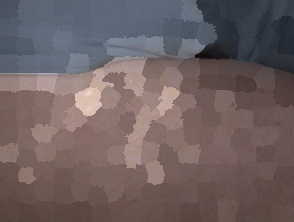SJS-TEN: (0, 52, 294, 222)
